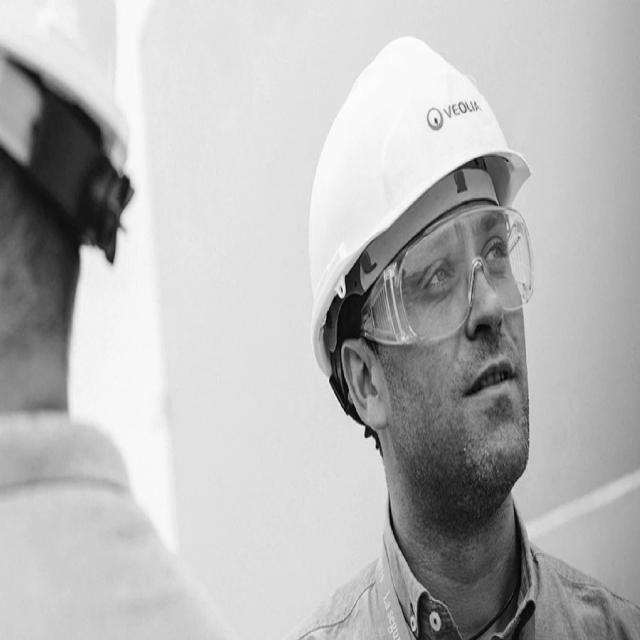construction helmet: (308, 37, 531, 423)
